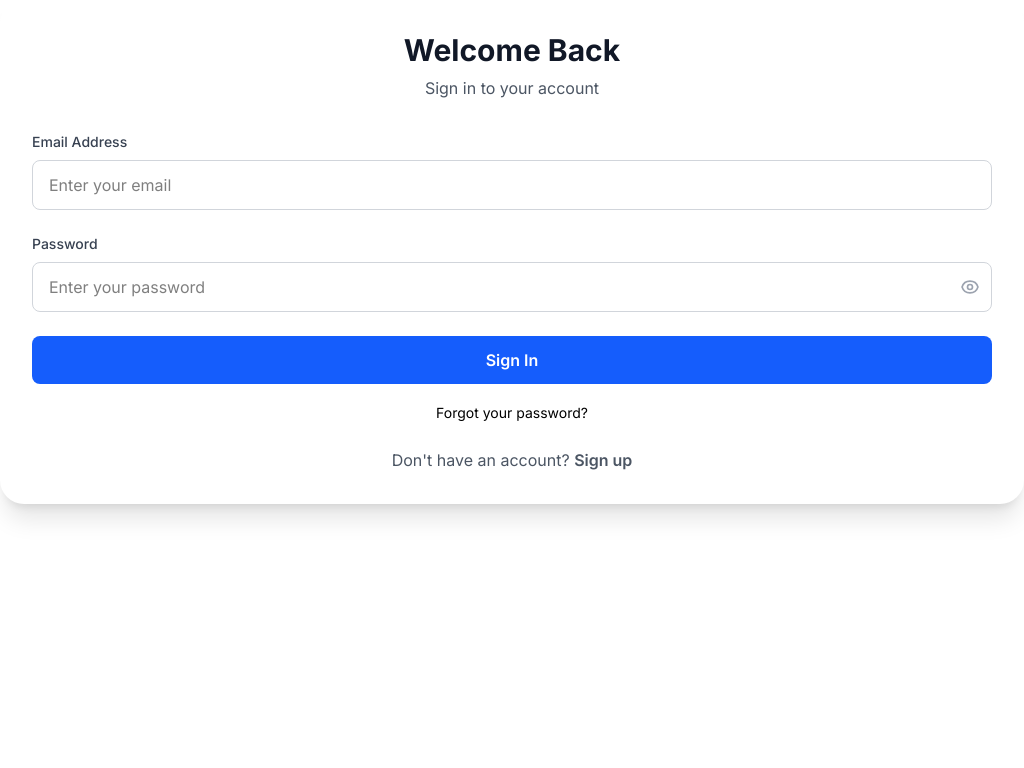
Test: Navigation Improvements › Form Validation and Error Handling › should handle login errors properly
// Fill in form
Type "test@example.com" into the field with placeholder "Enter your email" at (512, 185), box [32,160,992,210]
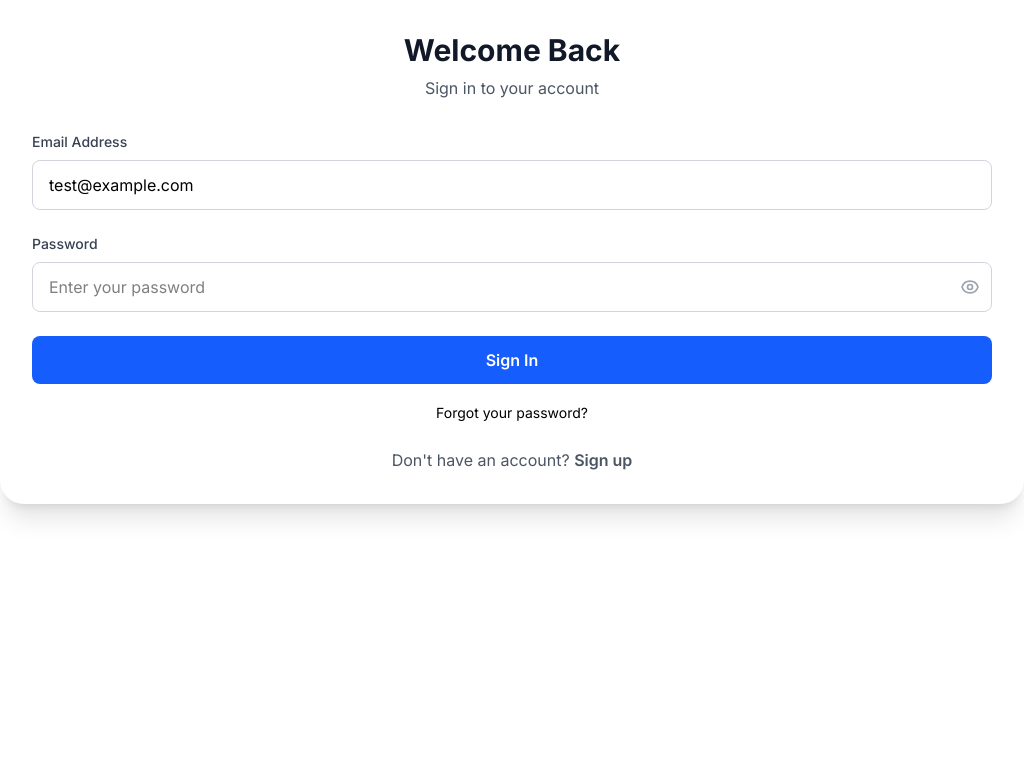
Type "wrongpassword" into the password field with placeholder "Enter your password" at (512, 287), box [32,262,992,312]
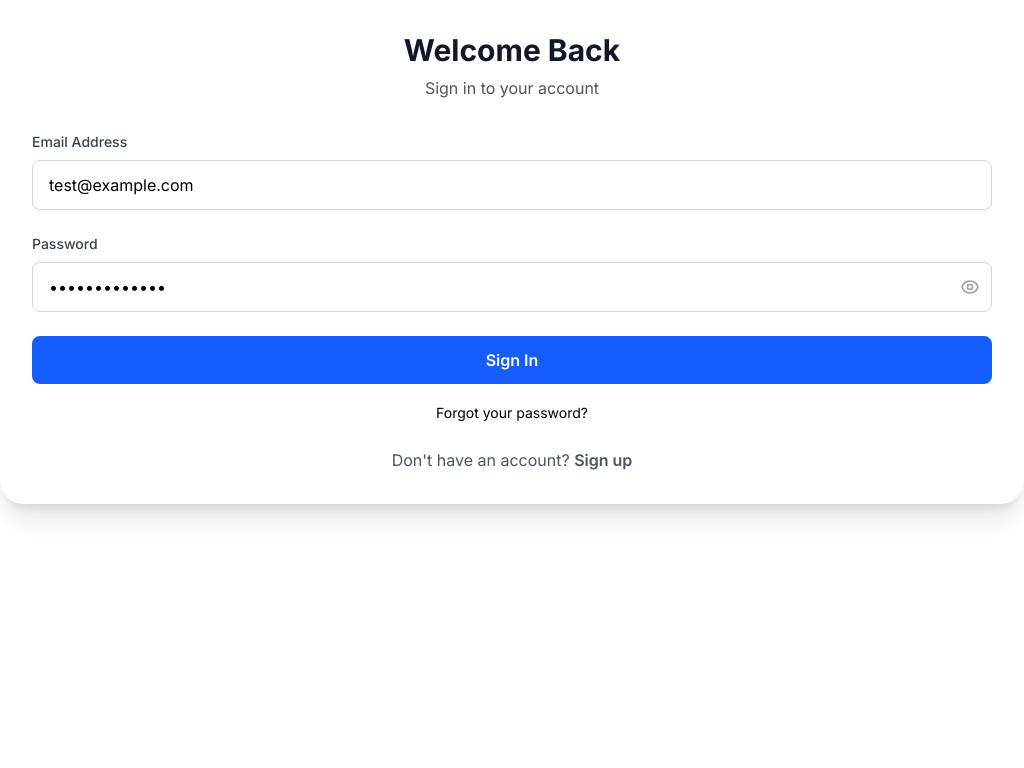
// Submit form
Click the button "Sign In" at (512, 360), box [32,336,992,384]
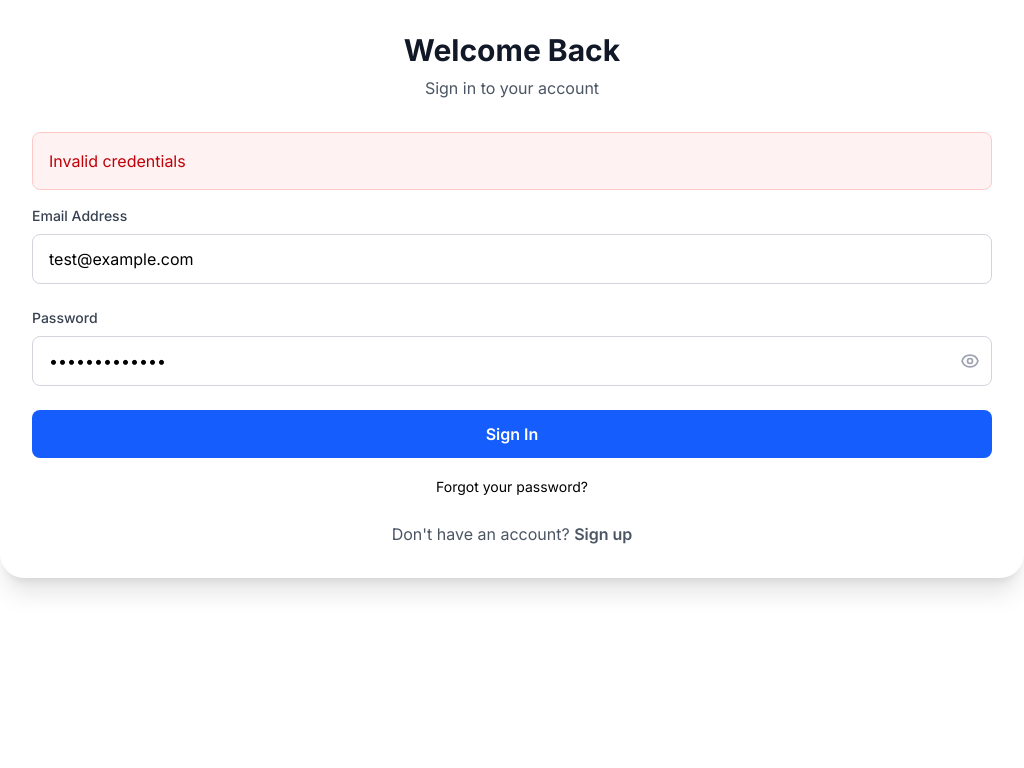
Result: the text "Invalid credentials" is shown at [32,132,992,190]
